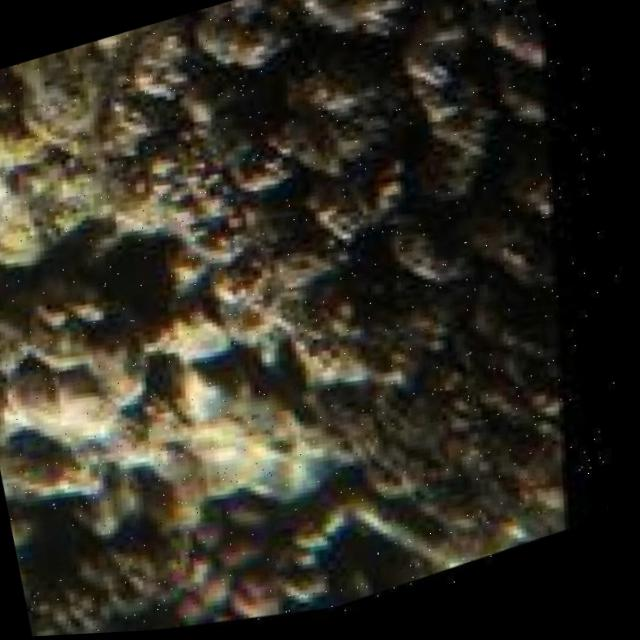Dead Coral: (115, 0, 640, 563), (15, 507, 162, 638)
Healthy Coral: (177, 499, 334, 632)
